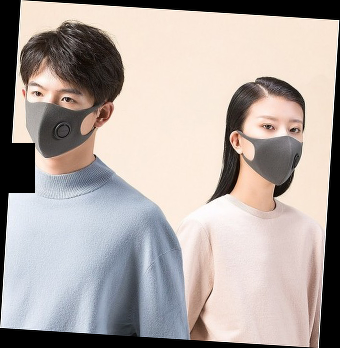with_mask: (23, 81, 94, 158), (241, 111, 303, 185)
